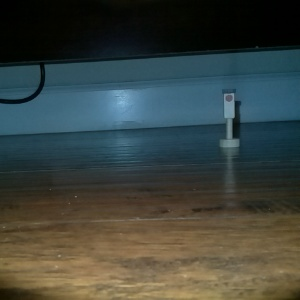traffic light red: (218, 87, 241, 149)
